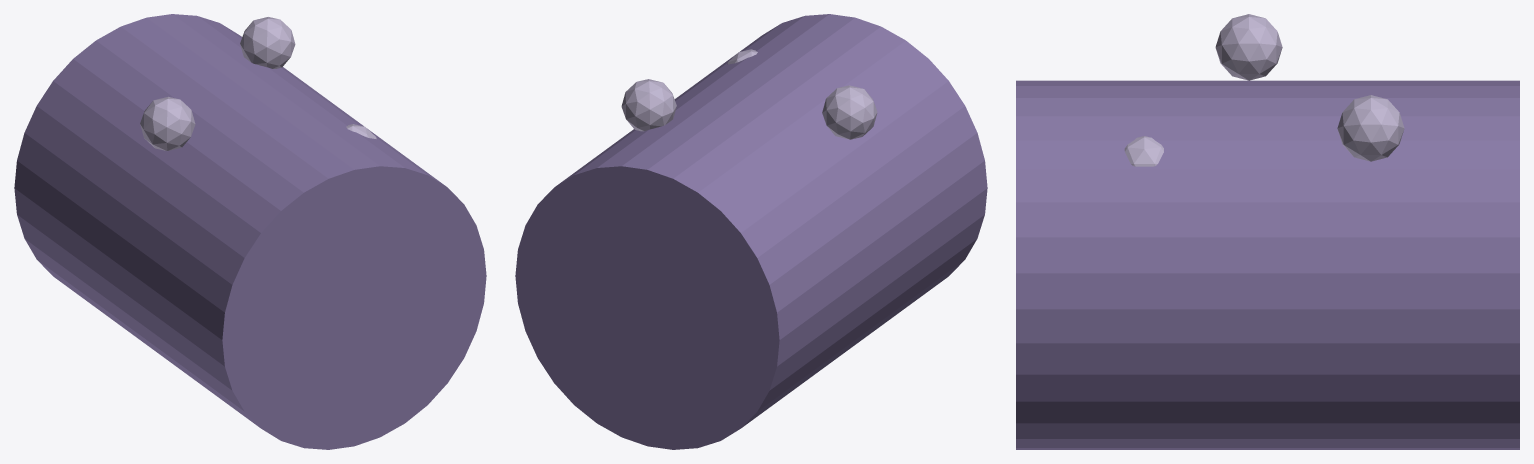
Rendered from shadow_light_spawn.glb.
The picture shows the model from 3 angles, left to right: view 1: azimuth 30°, elevation 25°; view 2: azimuth 150°, elevation 25°; view 3: azimuth 270°, elevation 25°; orthographic projection. The views are drawn at different scales.
Parts seen in each view (by area): view 1: geometry_0; view 2: geometry_0; view 3: geometry_0.
Part boxes in pixels (box(x1,y1,x2,y2)): geometry_0: box(14, 14, 486, 449); geometry_0: box(515, 14, 987, 449); geometry_0: box(1016, 14, 1519, 449).
Bounding box in the file's own units: 0.66 × 0.7297 × 0.9.
